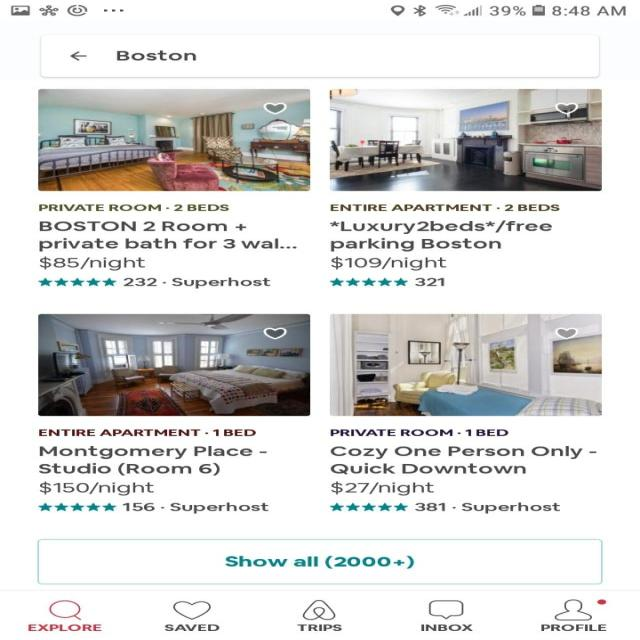EditText: (40, 34, 600, 78)
Icon: (554, 599, 592, 620), (172, 600, 210, 619), (38, 502, 118, 511), (329, 502, 408, 511), (329, 277, 408, 286), (38, 277, 116, 286), (49, 599, 82, 620), (428, 600, 463, 619), (262, 326, 287, 339), (554, 102, 578, 115), (262, 103, 287, 115), (554, 327, 578, 339), (69, 51, 87, 60)
Image: (37, 313, 310, 416), (38, 89, 310, 191), (329, 89, 601, 191), (329, 314, 601, 416), (301, 599, 335, 620)
Text: (38, 220, 297, 252), (329, 446, 596, 474), (37, 445, 267, 476), (329, 220, 552, 251), (122, 276, 270, 288), (414, 502, 560, 514), (122, 502, 268, 514), (38, 428, 256, 436), (39, 480, 152, 495), (329, 256, 446, 270), (330, 204, 560, 211), (39, 256, 146, 270), (330, 481, 434, 495), (330, 428, 508, 436), (38, 204, 230, 211), (116, 50, 196, 60), (28, 624, 102, 632), (540, 624, 606, 632), (163, 624, 220, 632), (420, 624, 473, 632), (296, 624, 342, 632), (414, 278, 444, 286)
TextButton: (37, 538, 603, 584)
